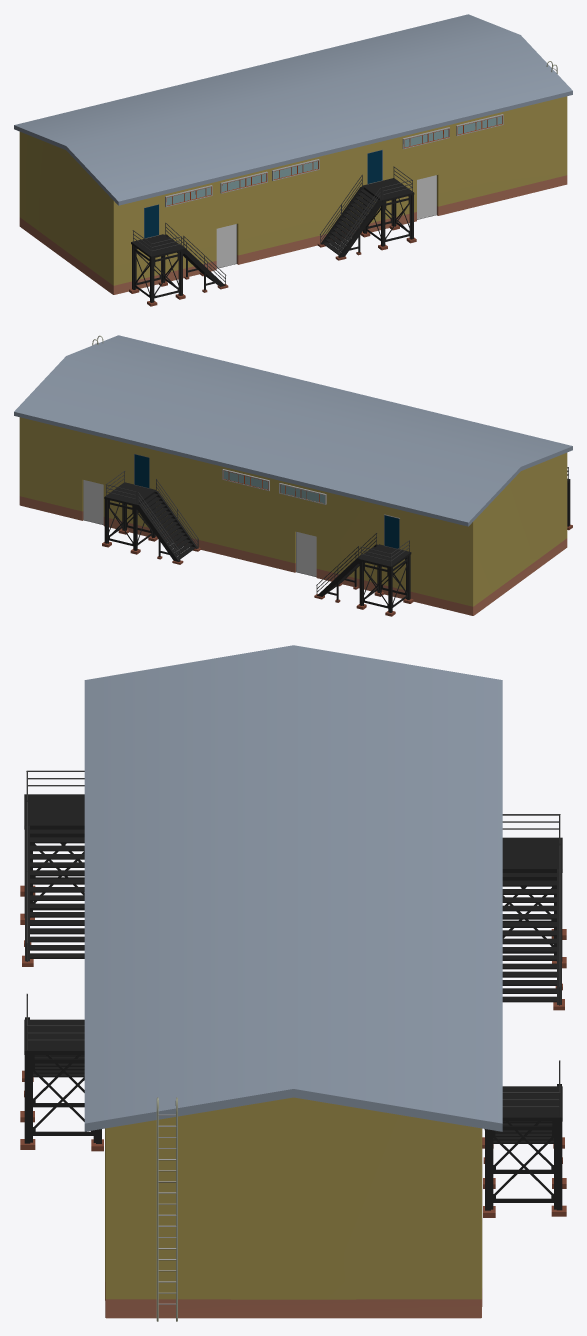
Rendered from Barrack_big_middle.fbx.
3 renders of one model, top to bottom at view 1: azimuth 30°, elevation 25°; view 2: azimuth 150°, elevation 25°; view 3: azimuth 270°, elevation 25°, orthographic. The views are drawn at different scales.
Parts seen in each view (by area): view 1: pCube27; view 2: pCube27; view 3: pCube27.
Part boxes in pixels (x1,y1,x2,y2): pCube27: (14,14,572,306); pCube27: (14,335,572,616); pCube27: (20,645,566,1321).
Size of the model in its own units: 3023 by 726 by 1563.
